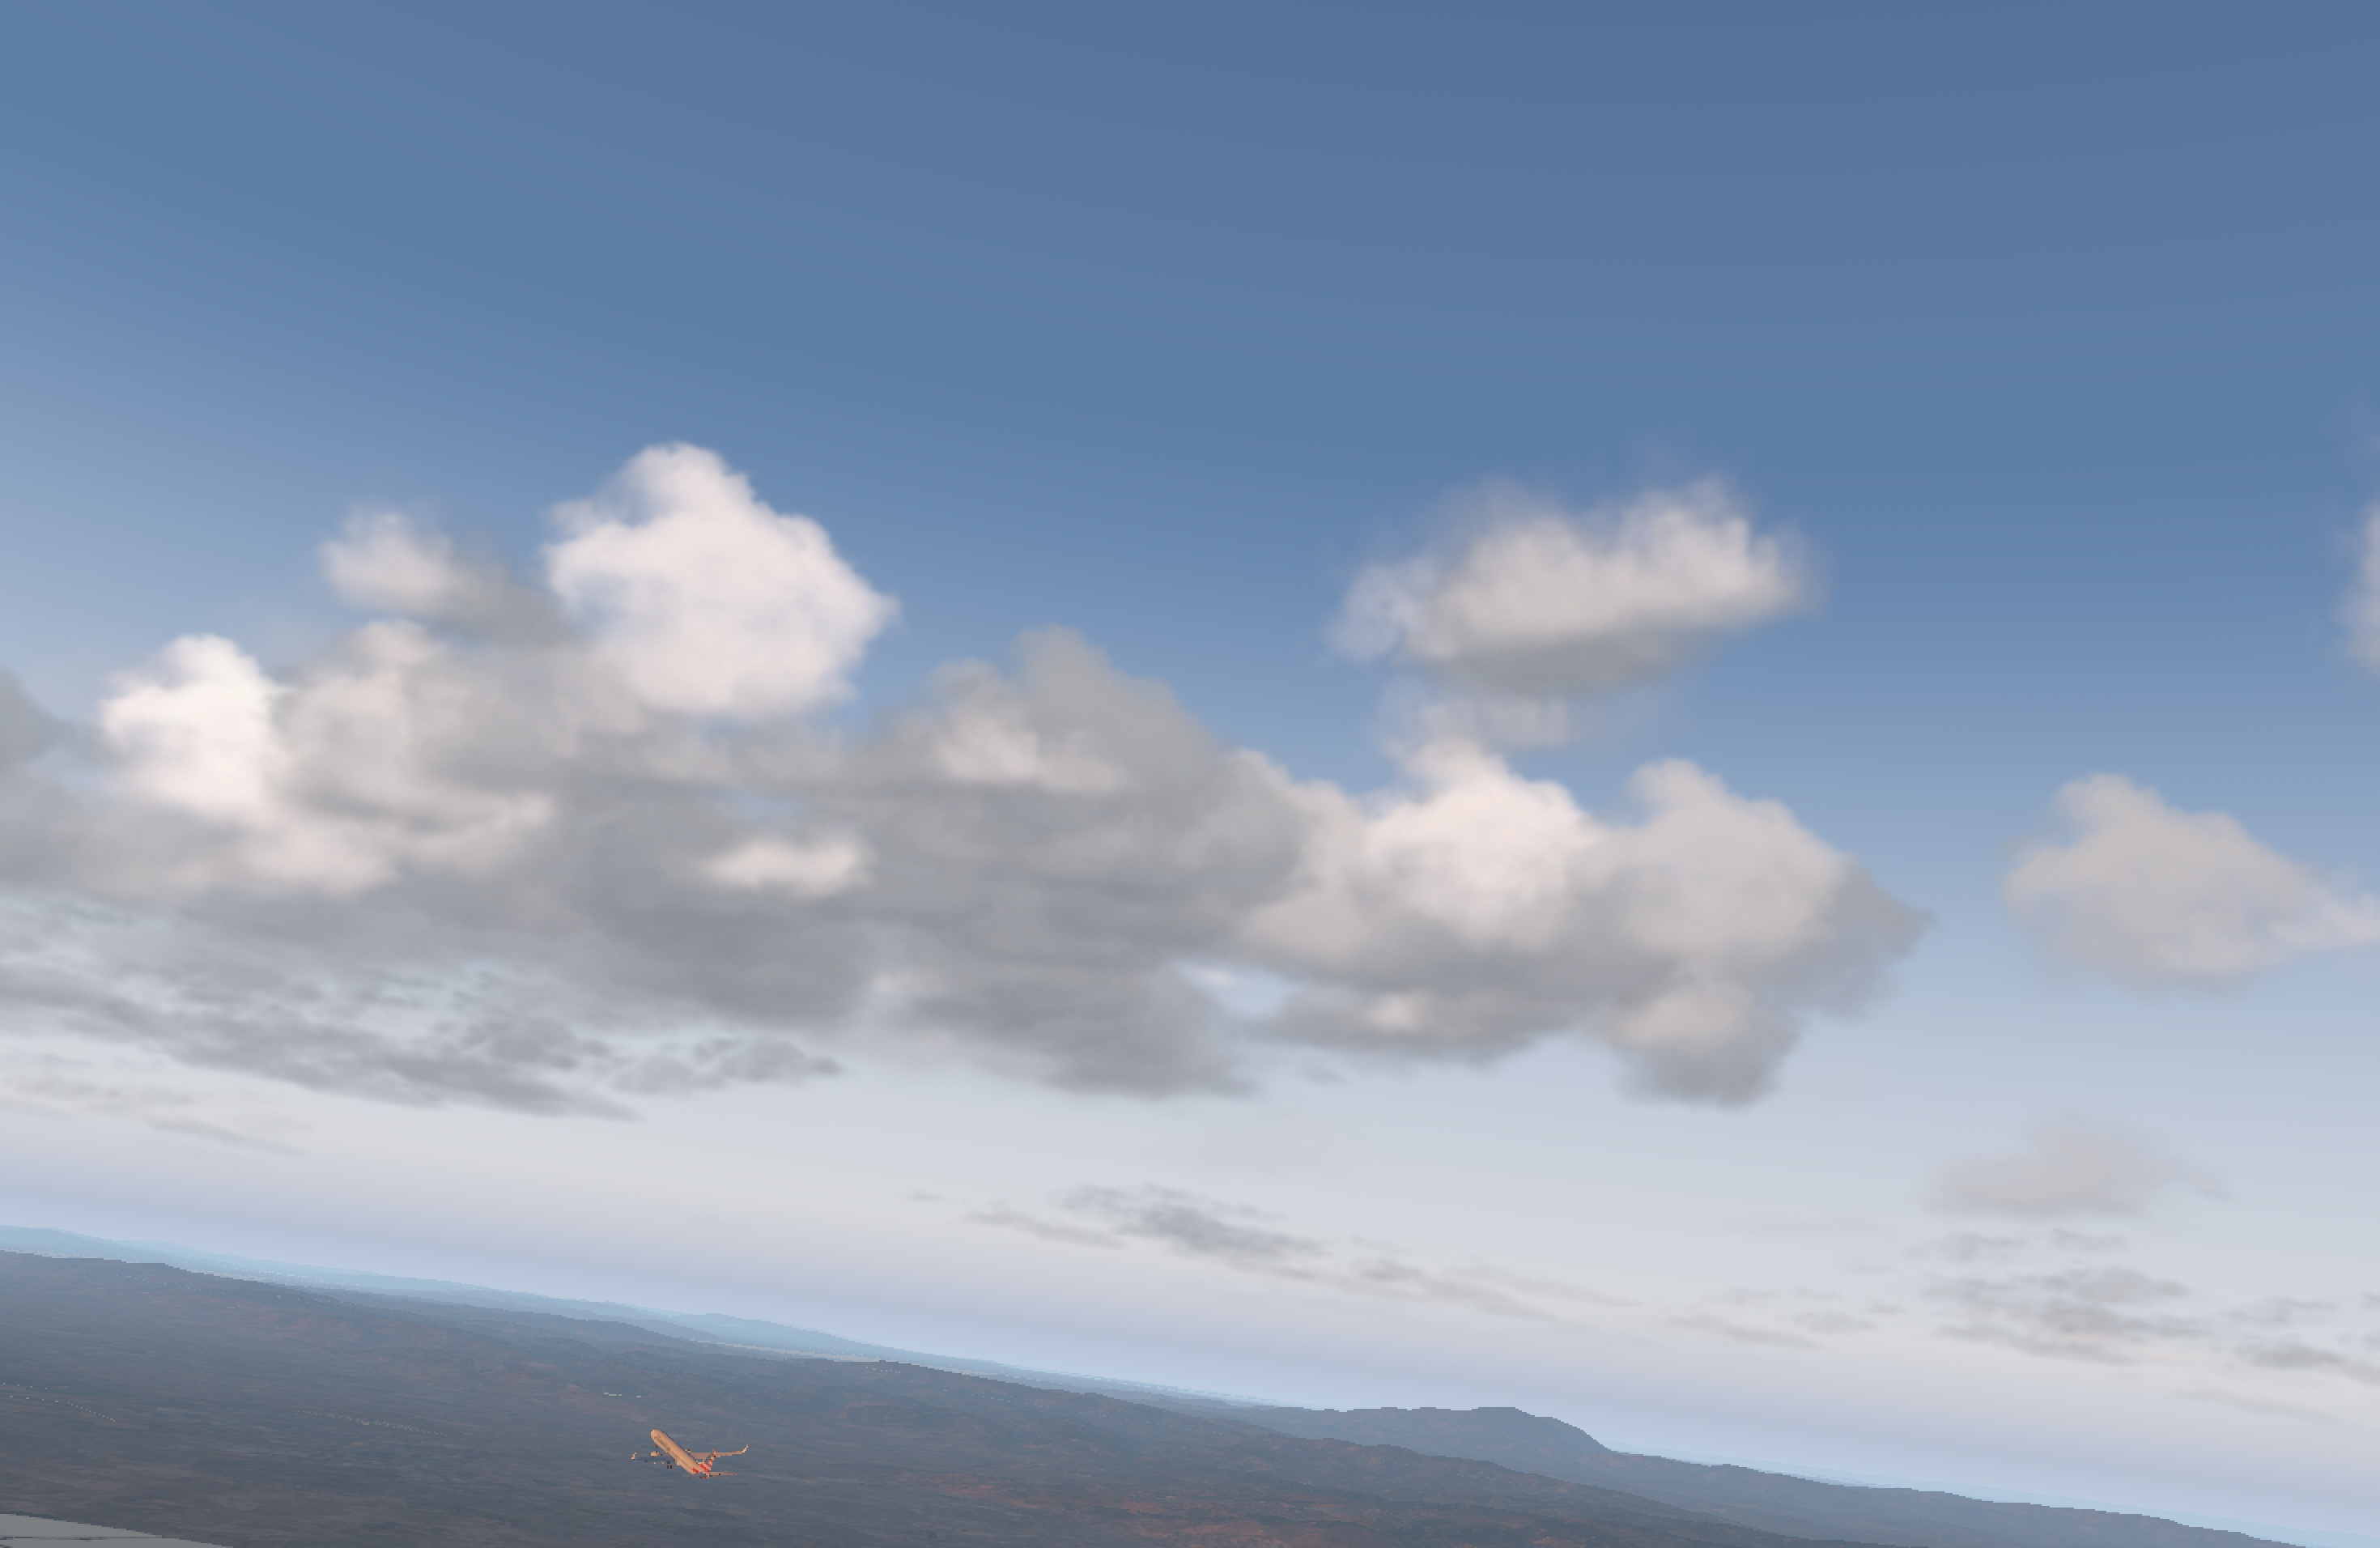aircraft: (614, 1432, 742, 1480)
